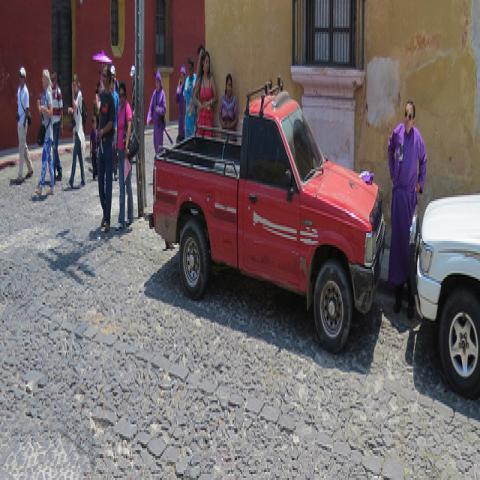car: (414, 190, 479, 403)
truck: (153, 83, 386, 348), (416, 198, 480, 402)
